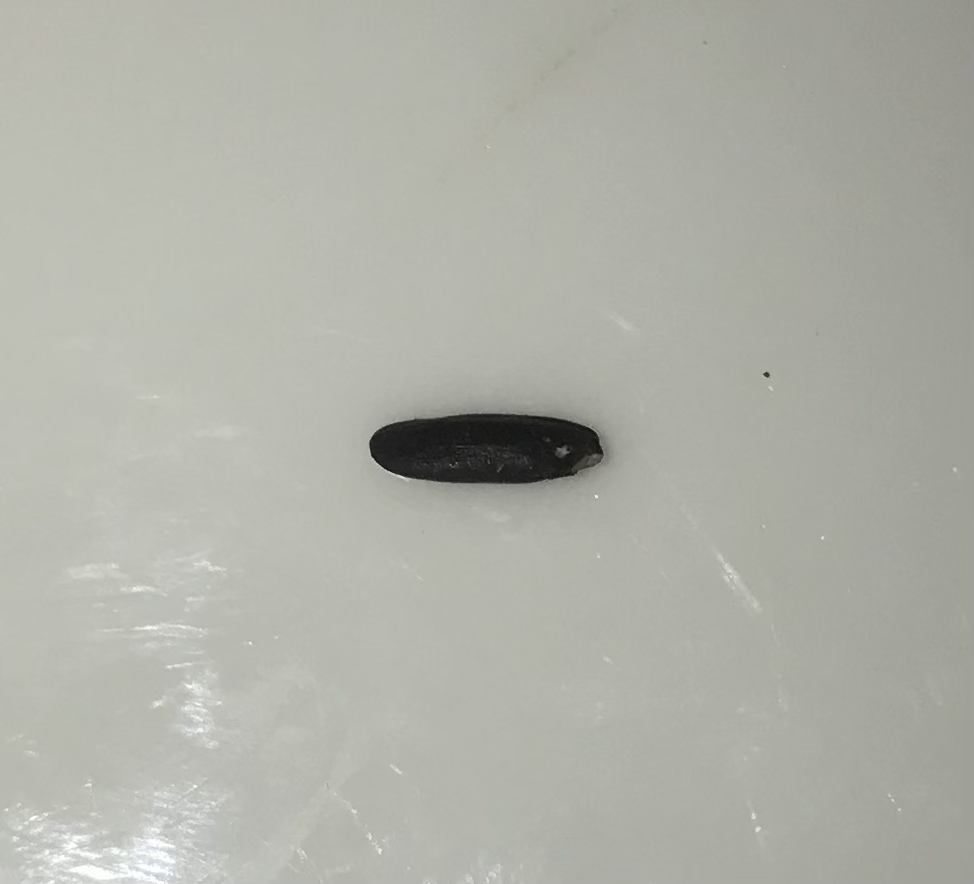Gao lut: (366, 406, 617, 493)
